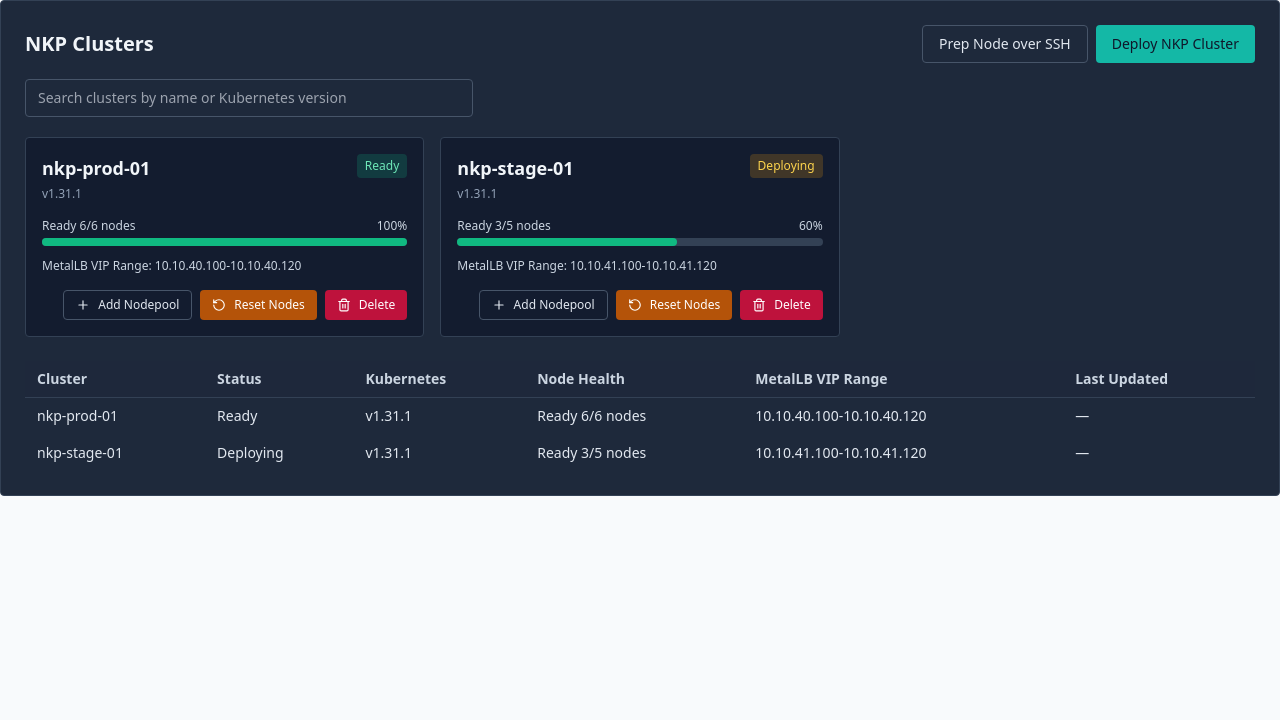
ClustersPage › opens add nodepool modal and submits nodepool request
This screenshot has width=1280, height=720.
Click the button with test id "btn-add-nodepool-nkp-prod-01".
click(128, 305)  # box left=63, top=290, right=192, bottom=320
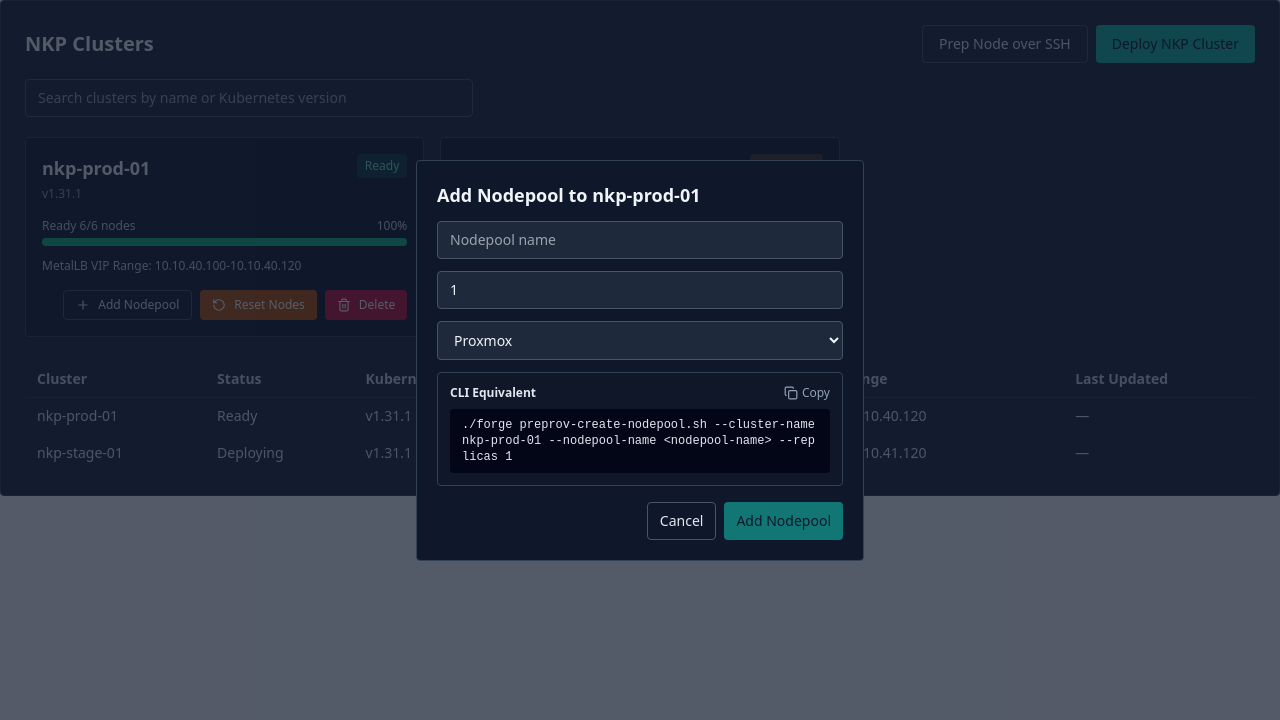
Check: the element with test id "modal-add-nodepool" is shown, box left=416, top=160, right=864, bottom=560
Type "gpu-pool" into the field with test id "input-nodepool-name".
click(640, 240); type("gpu-pool")  # box left=437, top=220, right=843, bottom=258
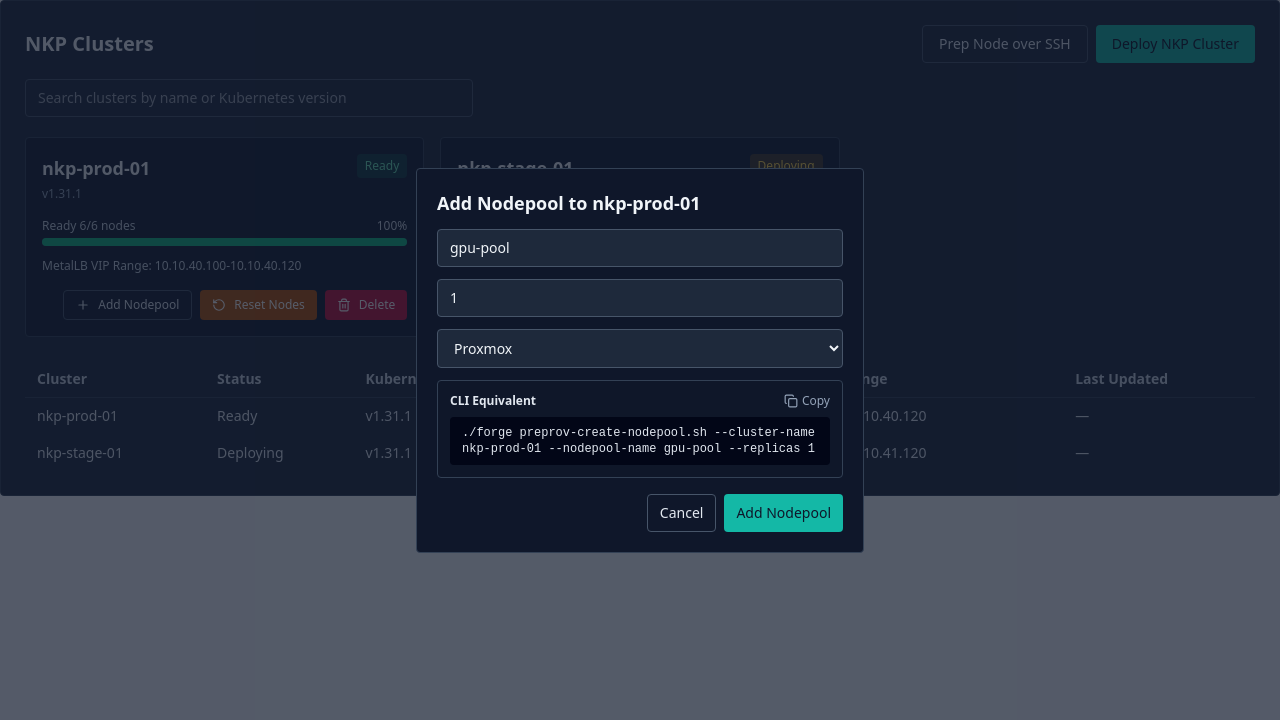
Replace the text in the number field with test id "input-nodepool-replicas" with "2" at [640, 298], box left=437, top=278, right=843, bottom=316
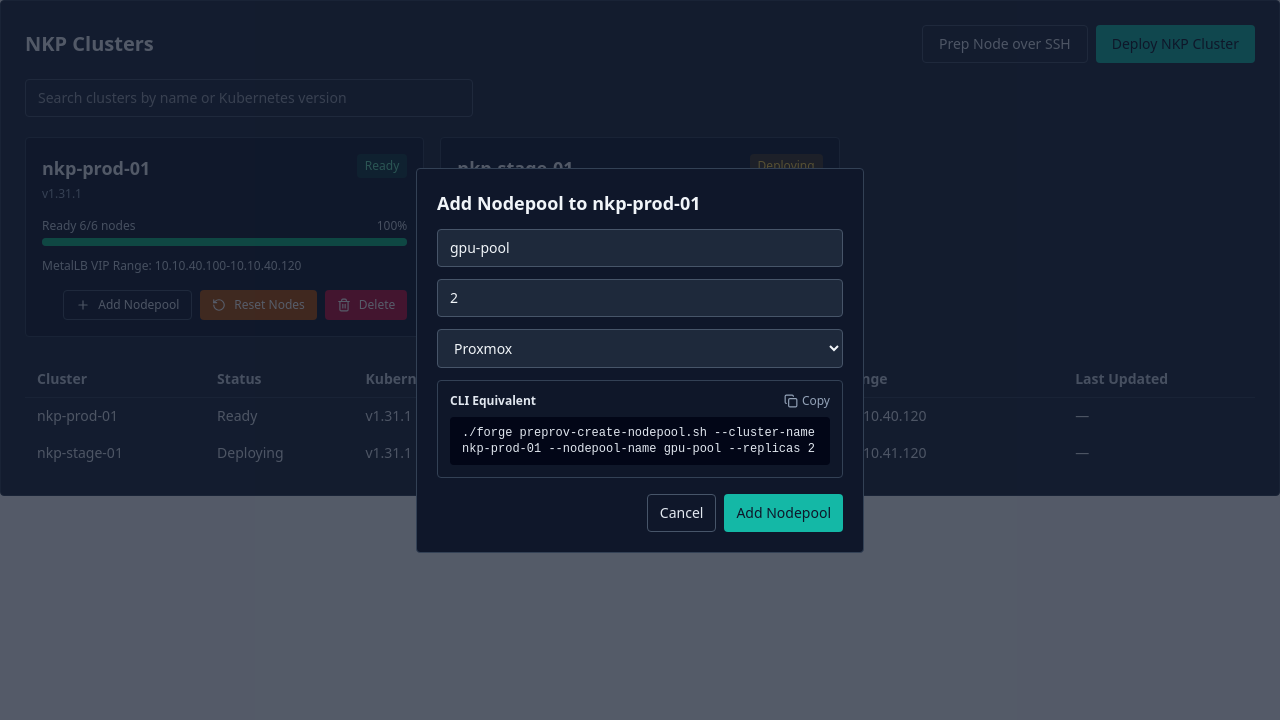
Select "Nutanix AHV" in the dropdown with test id "select-nodepool-hypervisor" at [640, 348], box left=437, top=328, right=843, bottom=368
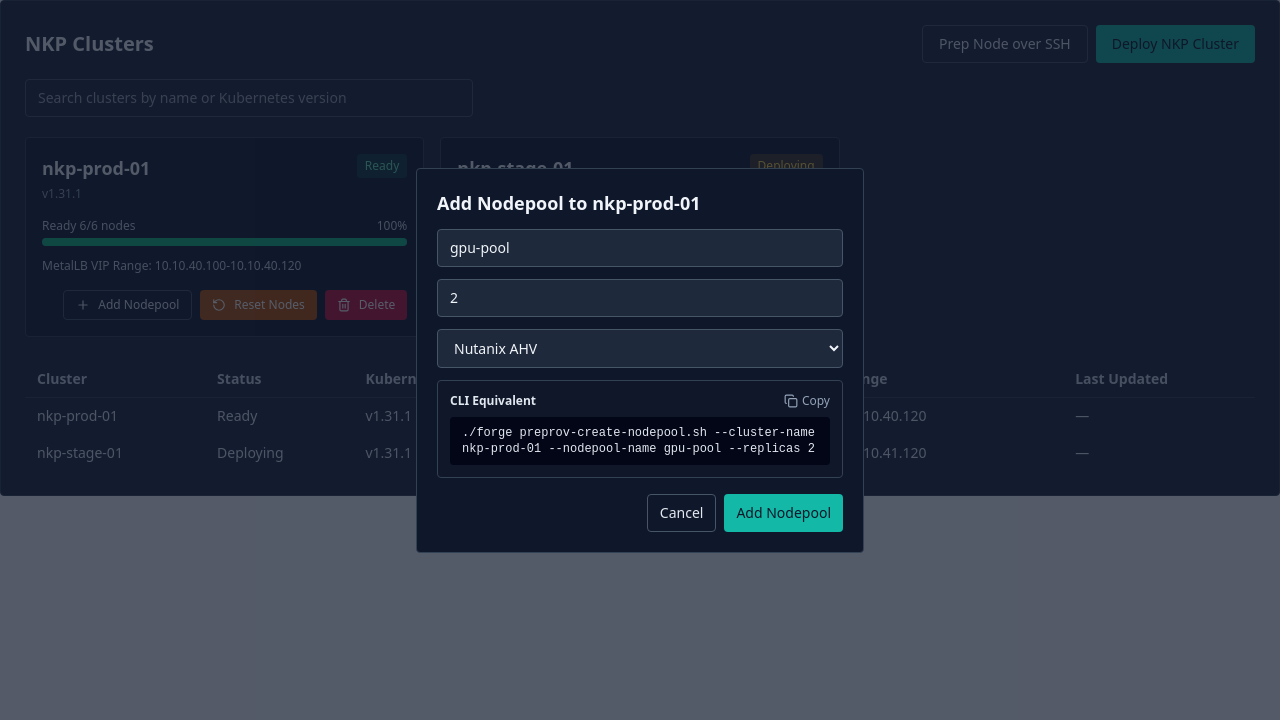
Click the button with test id "btn-submit-add-nodepool".
click(784, 512)  # box left=724, top=494, right=843, bottom=532
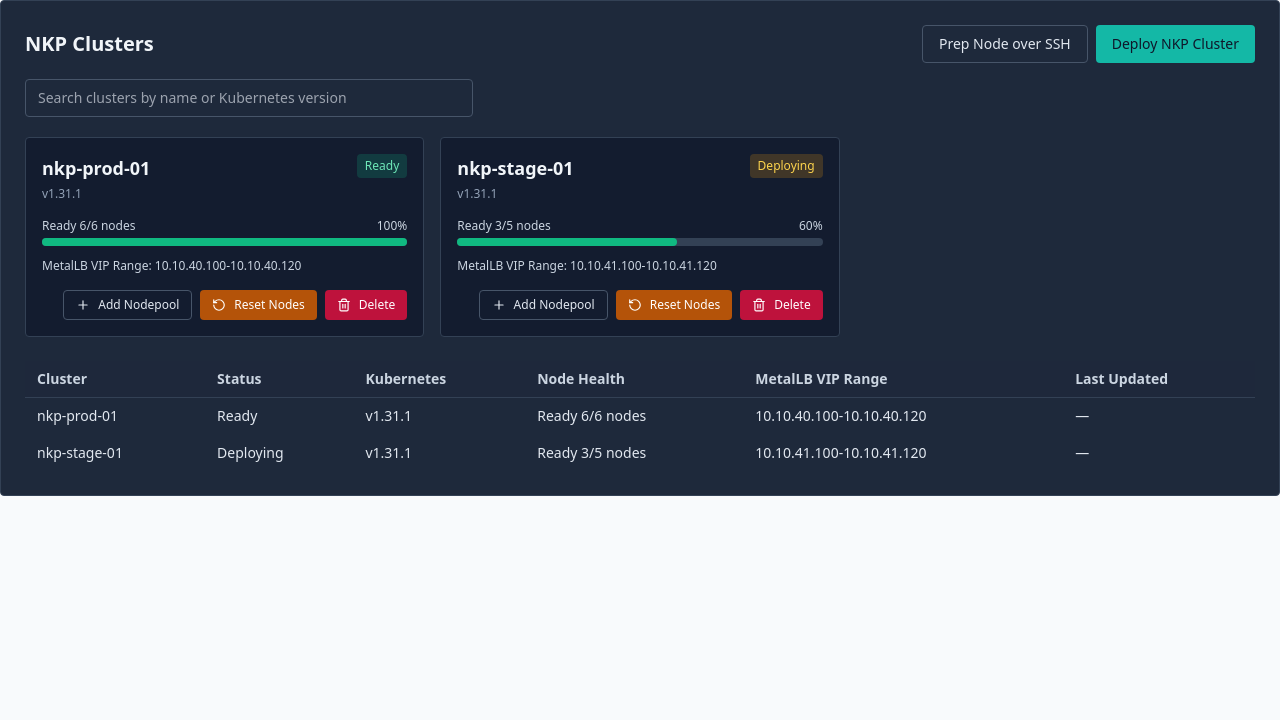
Check: the element with test id "modal-add-nodepool" is gone
